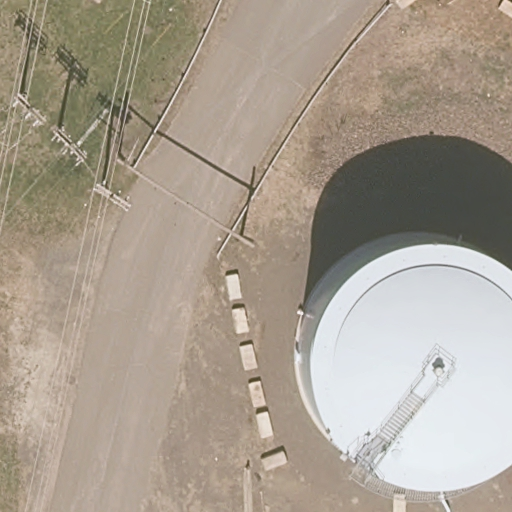DT: (48, 122, 89, 164), (94, 181, 134, 212), (11, 91, 47, 125)
